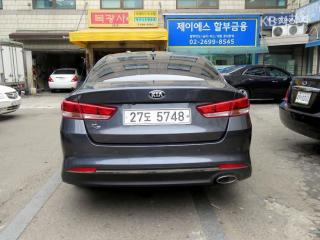2: (129, 111, 136, 123)
4: (171, 111, 178, 123)
5: (157, 111, 164, 123)
7: (137, 110, 143, 123), (164, 110, 170, 122)
8: (178, 110, 185, 122)
도: (144, 111, 151, 123)
